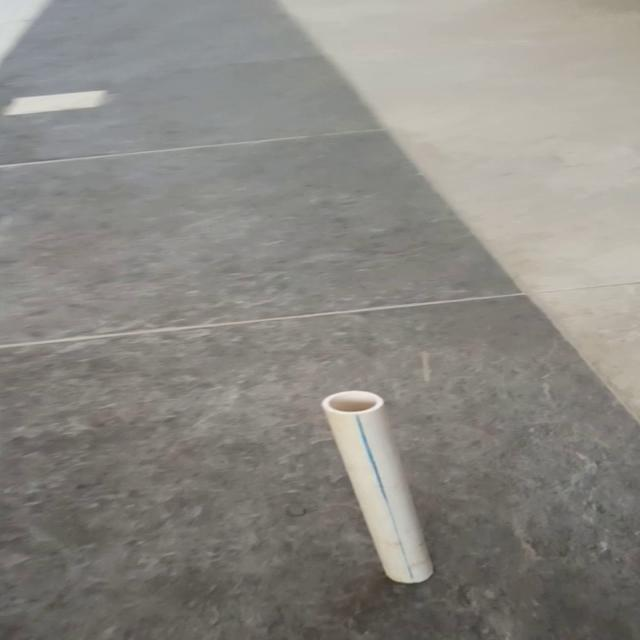Cube: (318, 390, 435, 584)
